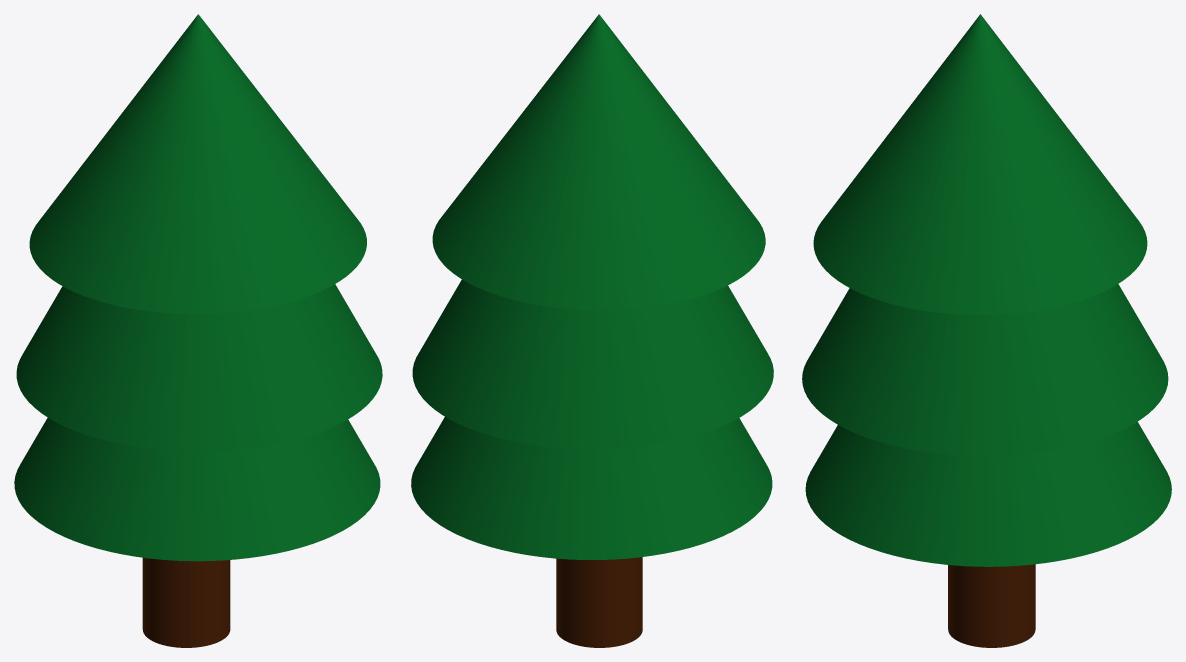
The model's file is Sapin Battle.fbx.
3 views of the same model, side by side, from view 1: azimuth 30°, elevation 25°; view 2: azimuth 150°, elevation 25°; view 3: azimuth 270°, elevation 25° (orthographic).
Visible parts, largest first — view 1: root (×4); view 2: root (×4); view 3: root (×4).
Part boxes in pixels (bbox=[...]): root (×4): bbox=[14, 14, 382, 647]; root (×4): bbox=[411, 14, 773, 647]; root (×4): bbox=[802, 14, 1171, 647].
Size of the model in its own units: 0.1434 by 0.2669 by 0.1446.
4 materials, 4 textured.
